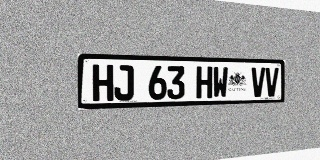3: (167, 66, 184, 99)
6: (149, 65, 167, 100)
H: (92, 64, 113, 101), (196, 66, 212, 99)
J: (114, 65, 134, 101)
V: (251, 67, 265, 97), (265, 67, 278, 97)
W: (212, 67, 228, 98)
